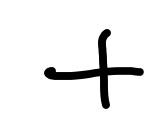plus: (44, 27, 144, 109)
